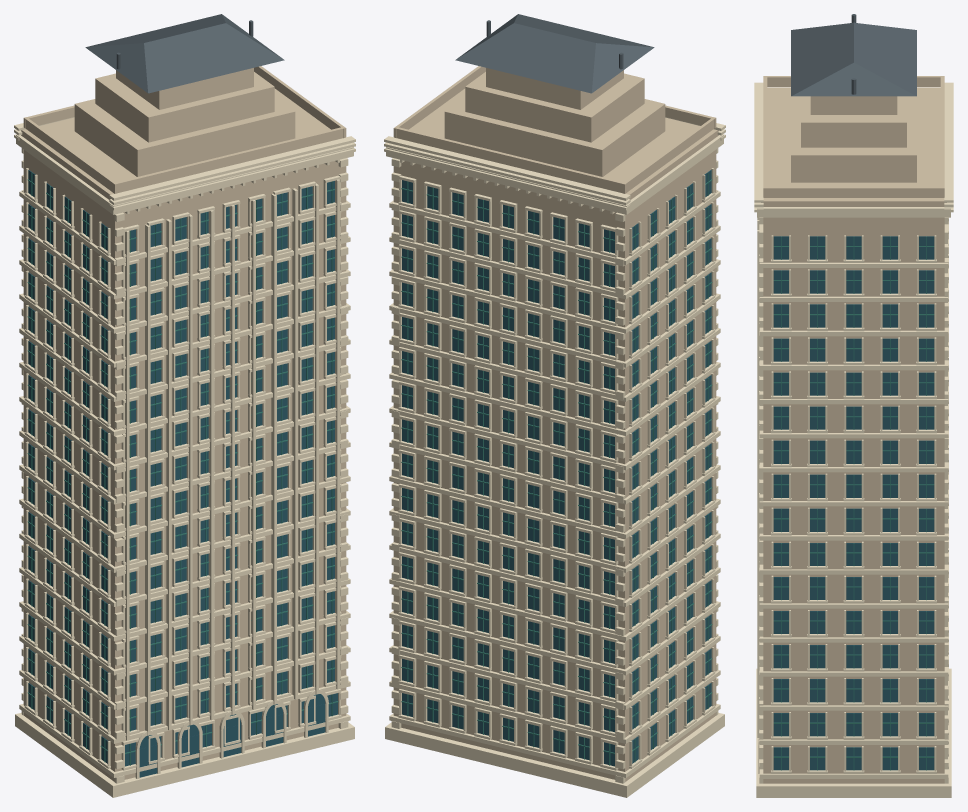
File: bank-china-bund.glb
3 renders of one model, left to right at view 1: azimuth 30°, elevation 25°; view 2: azimuth 150°, elevation 25°; view 3: azimuth 270°, elevation 25°, orthographic.
Visible parts, largest first — view 1: bank-china-bund; view 2: bank-china-bund; view 3: bank-china-bund.
Part boxes in pixels (bbox=[...]): bank-china-bund: bbox=[14, 14, 355, 797]; bank-china-bund: bbox=[384, 14, 725, 797]; bank-china-bund: bbox=[754, 14, 953, 797].
Bounding box in the file's own units: 26.42 × 73 × 18.91.
